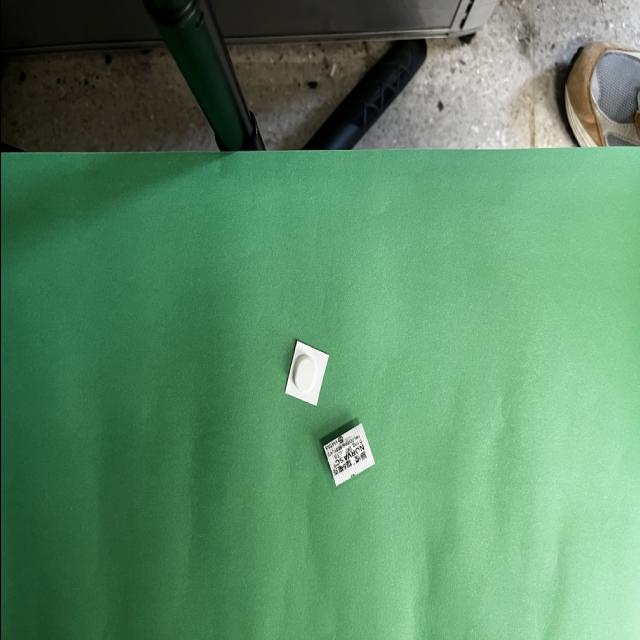Other Objects: (322, 423, 374, 485), (284, 340, 328, 404)
